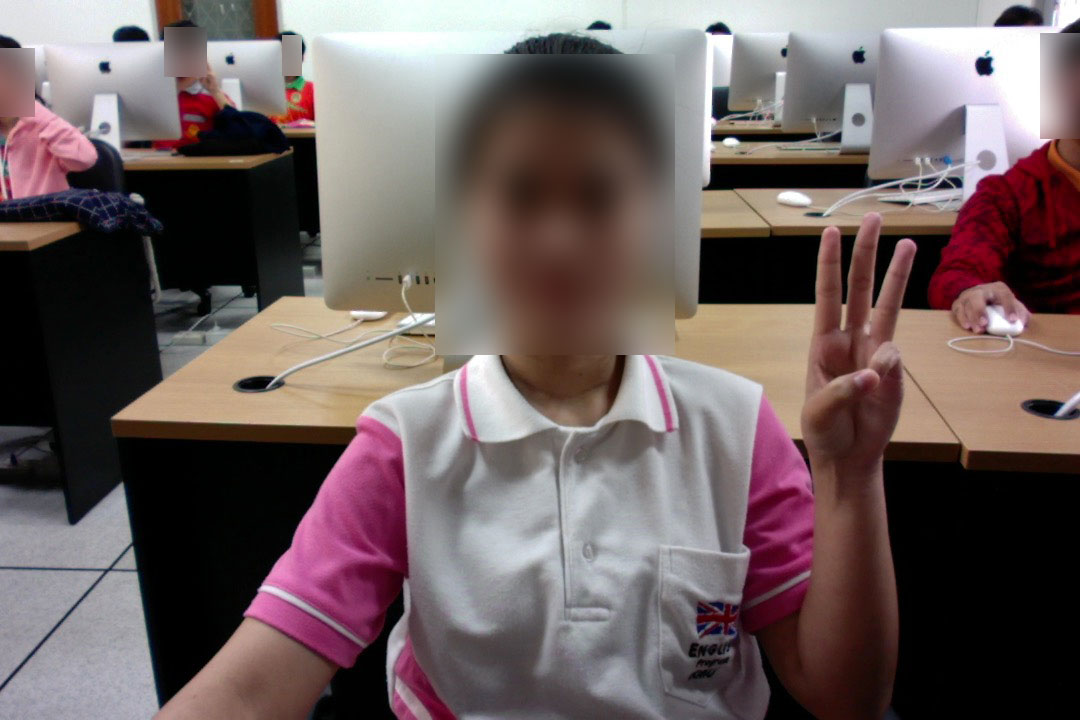wor: (784, 212, 939, 488)
